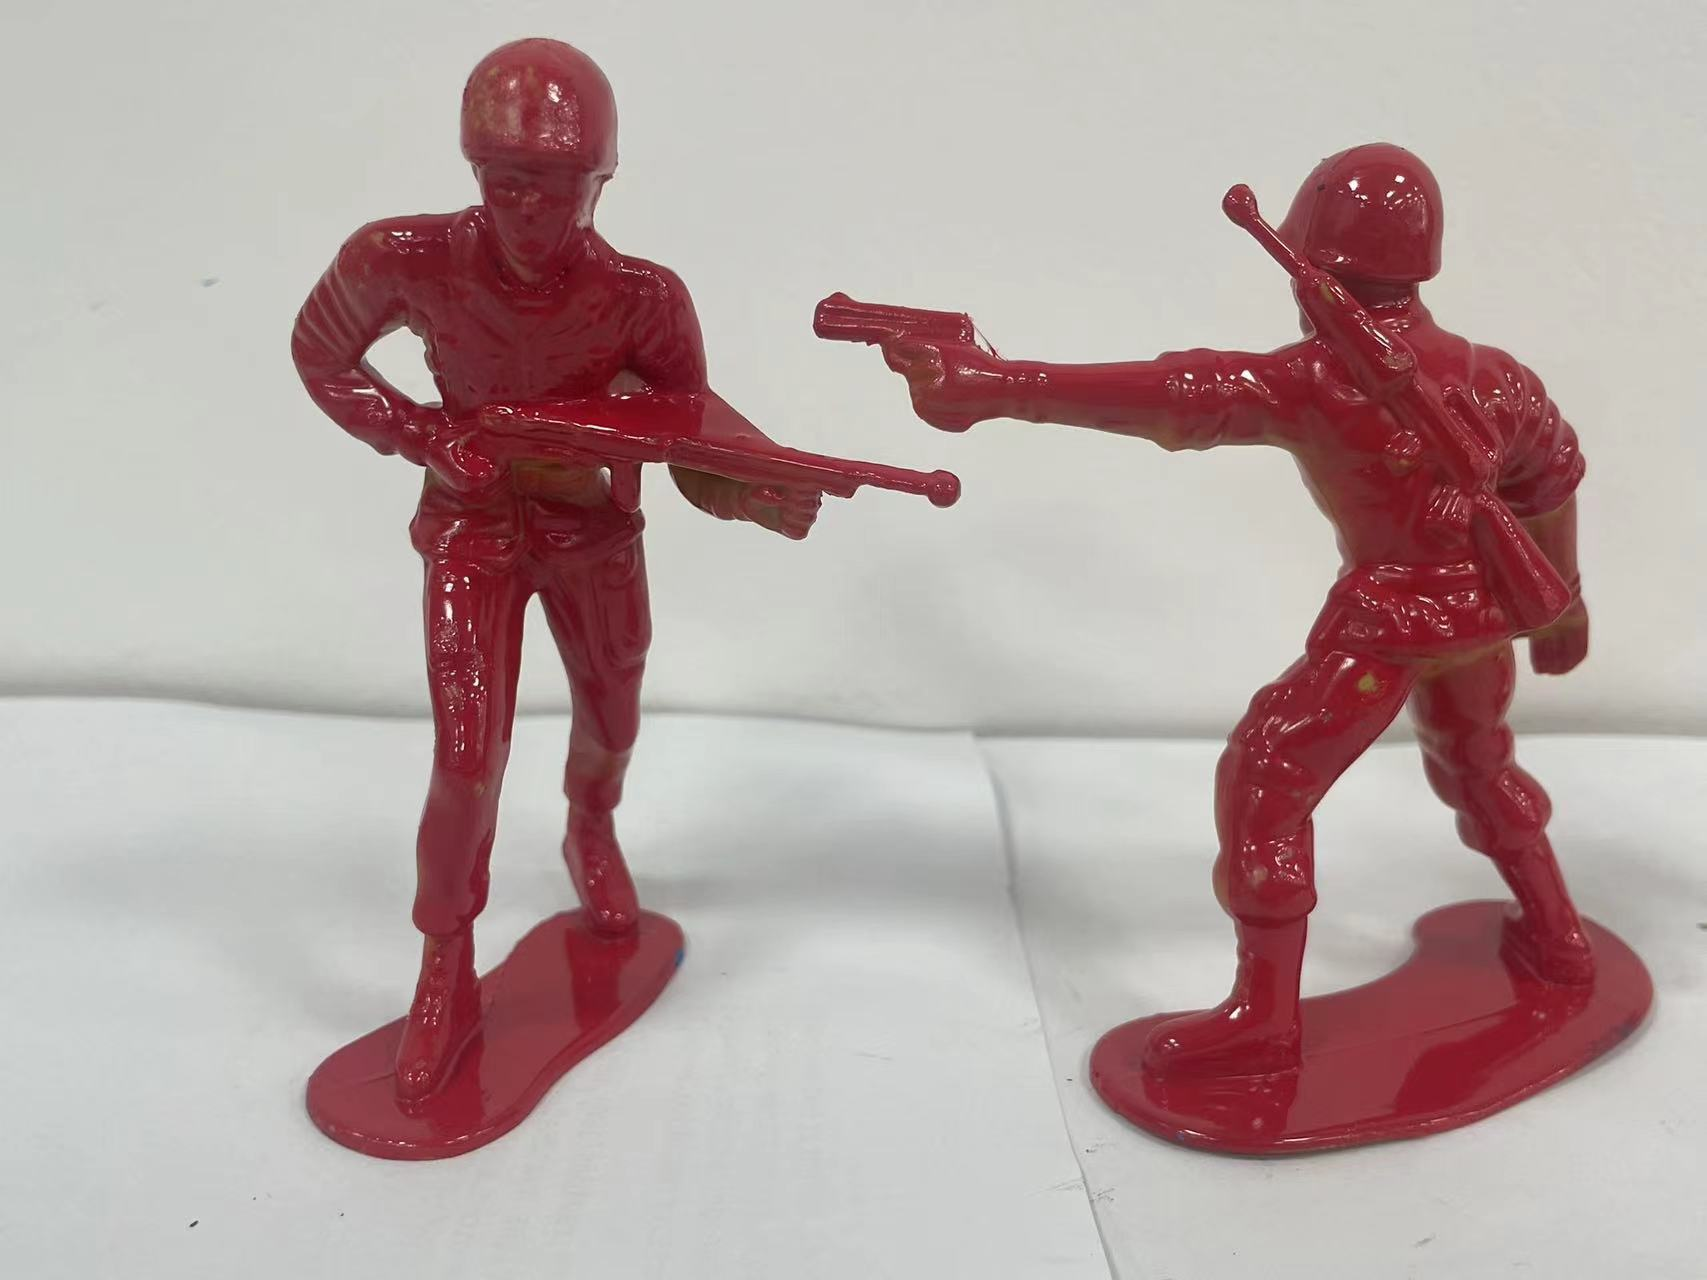red: (812, 130, 1657, 1159), (255, 48, 892, 1194)
